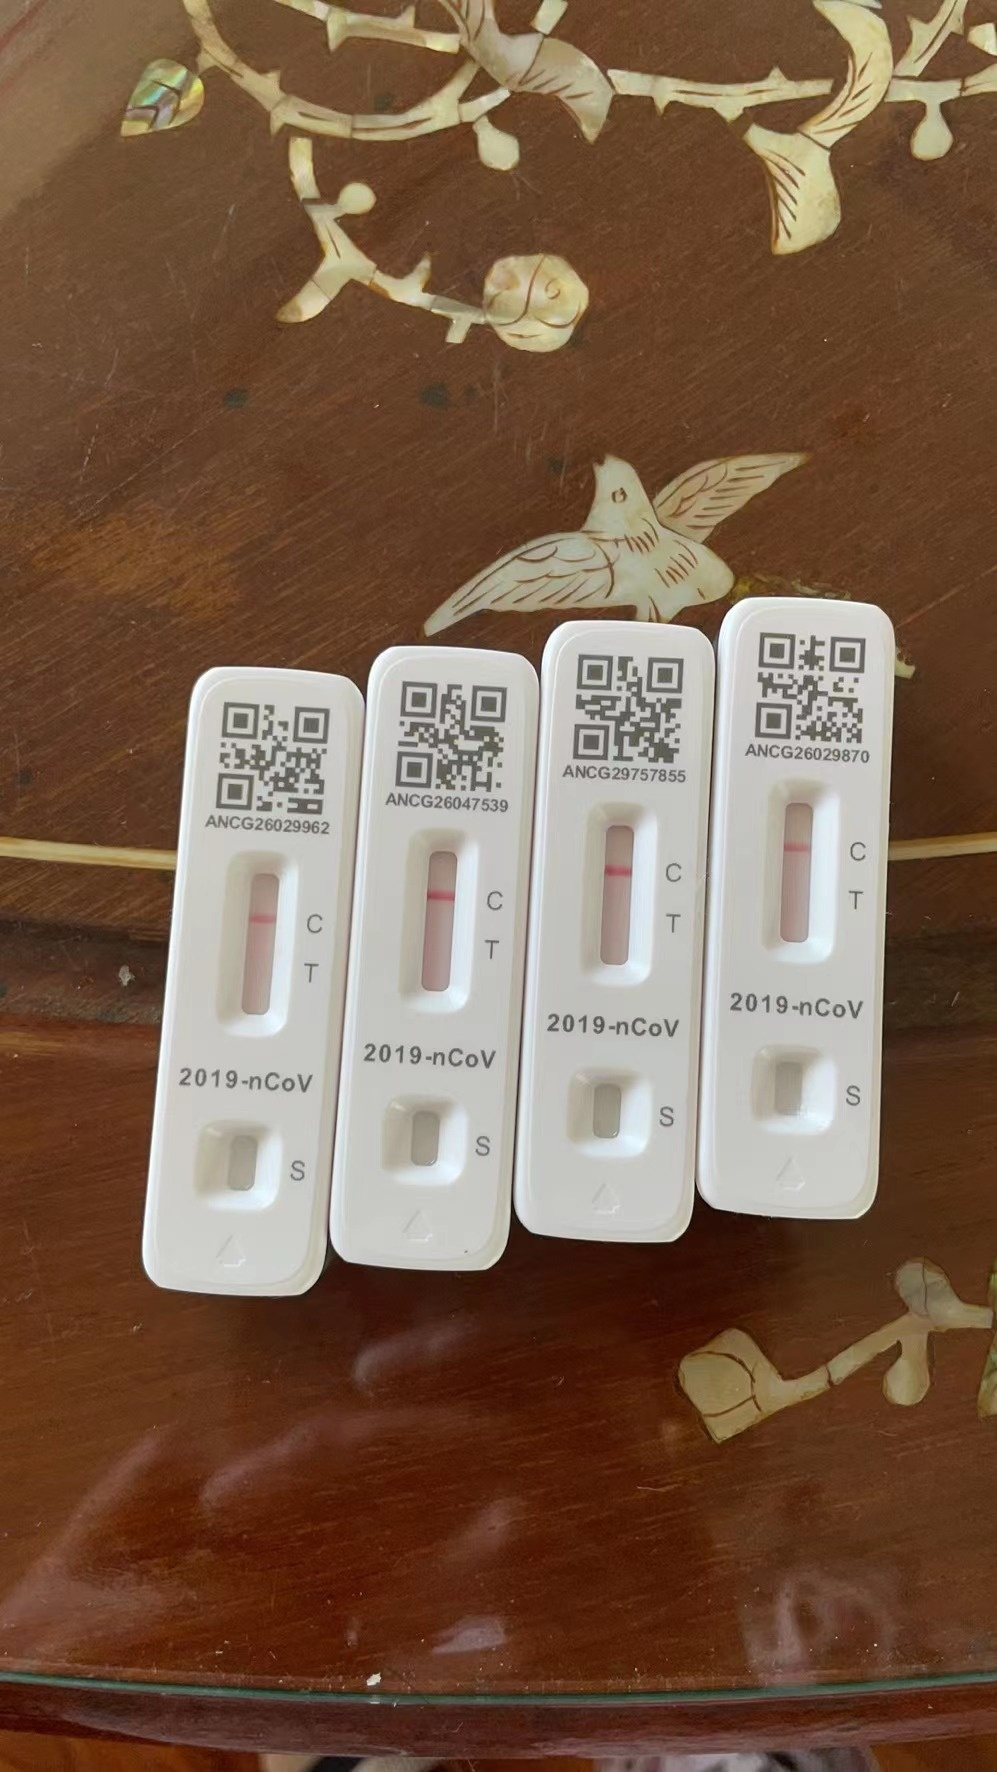negative: (217, 849, 293, 1034), (579, 800, 655, 985), (761, 779, 833, 963), (403, 830, 474, 1008)
